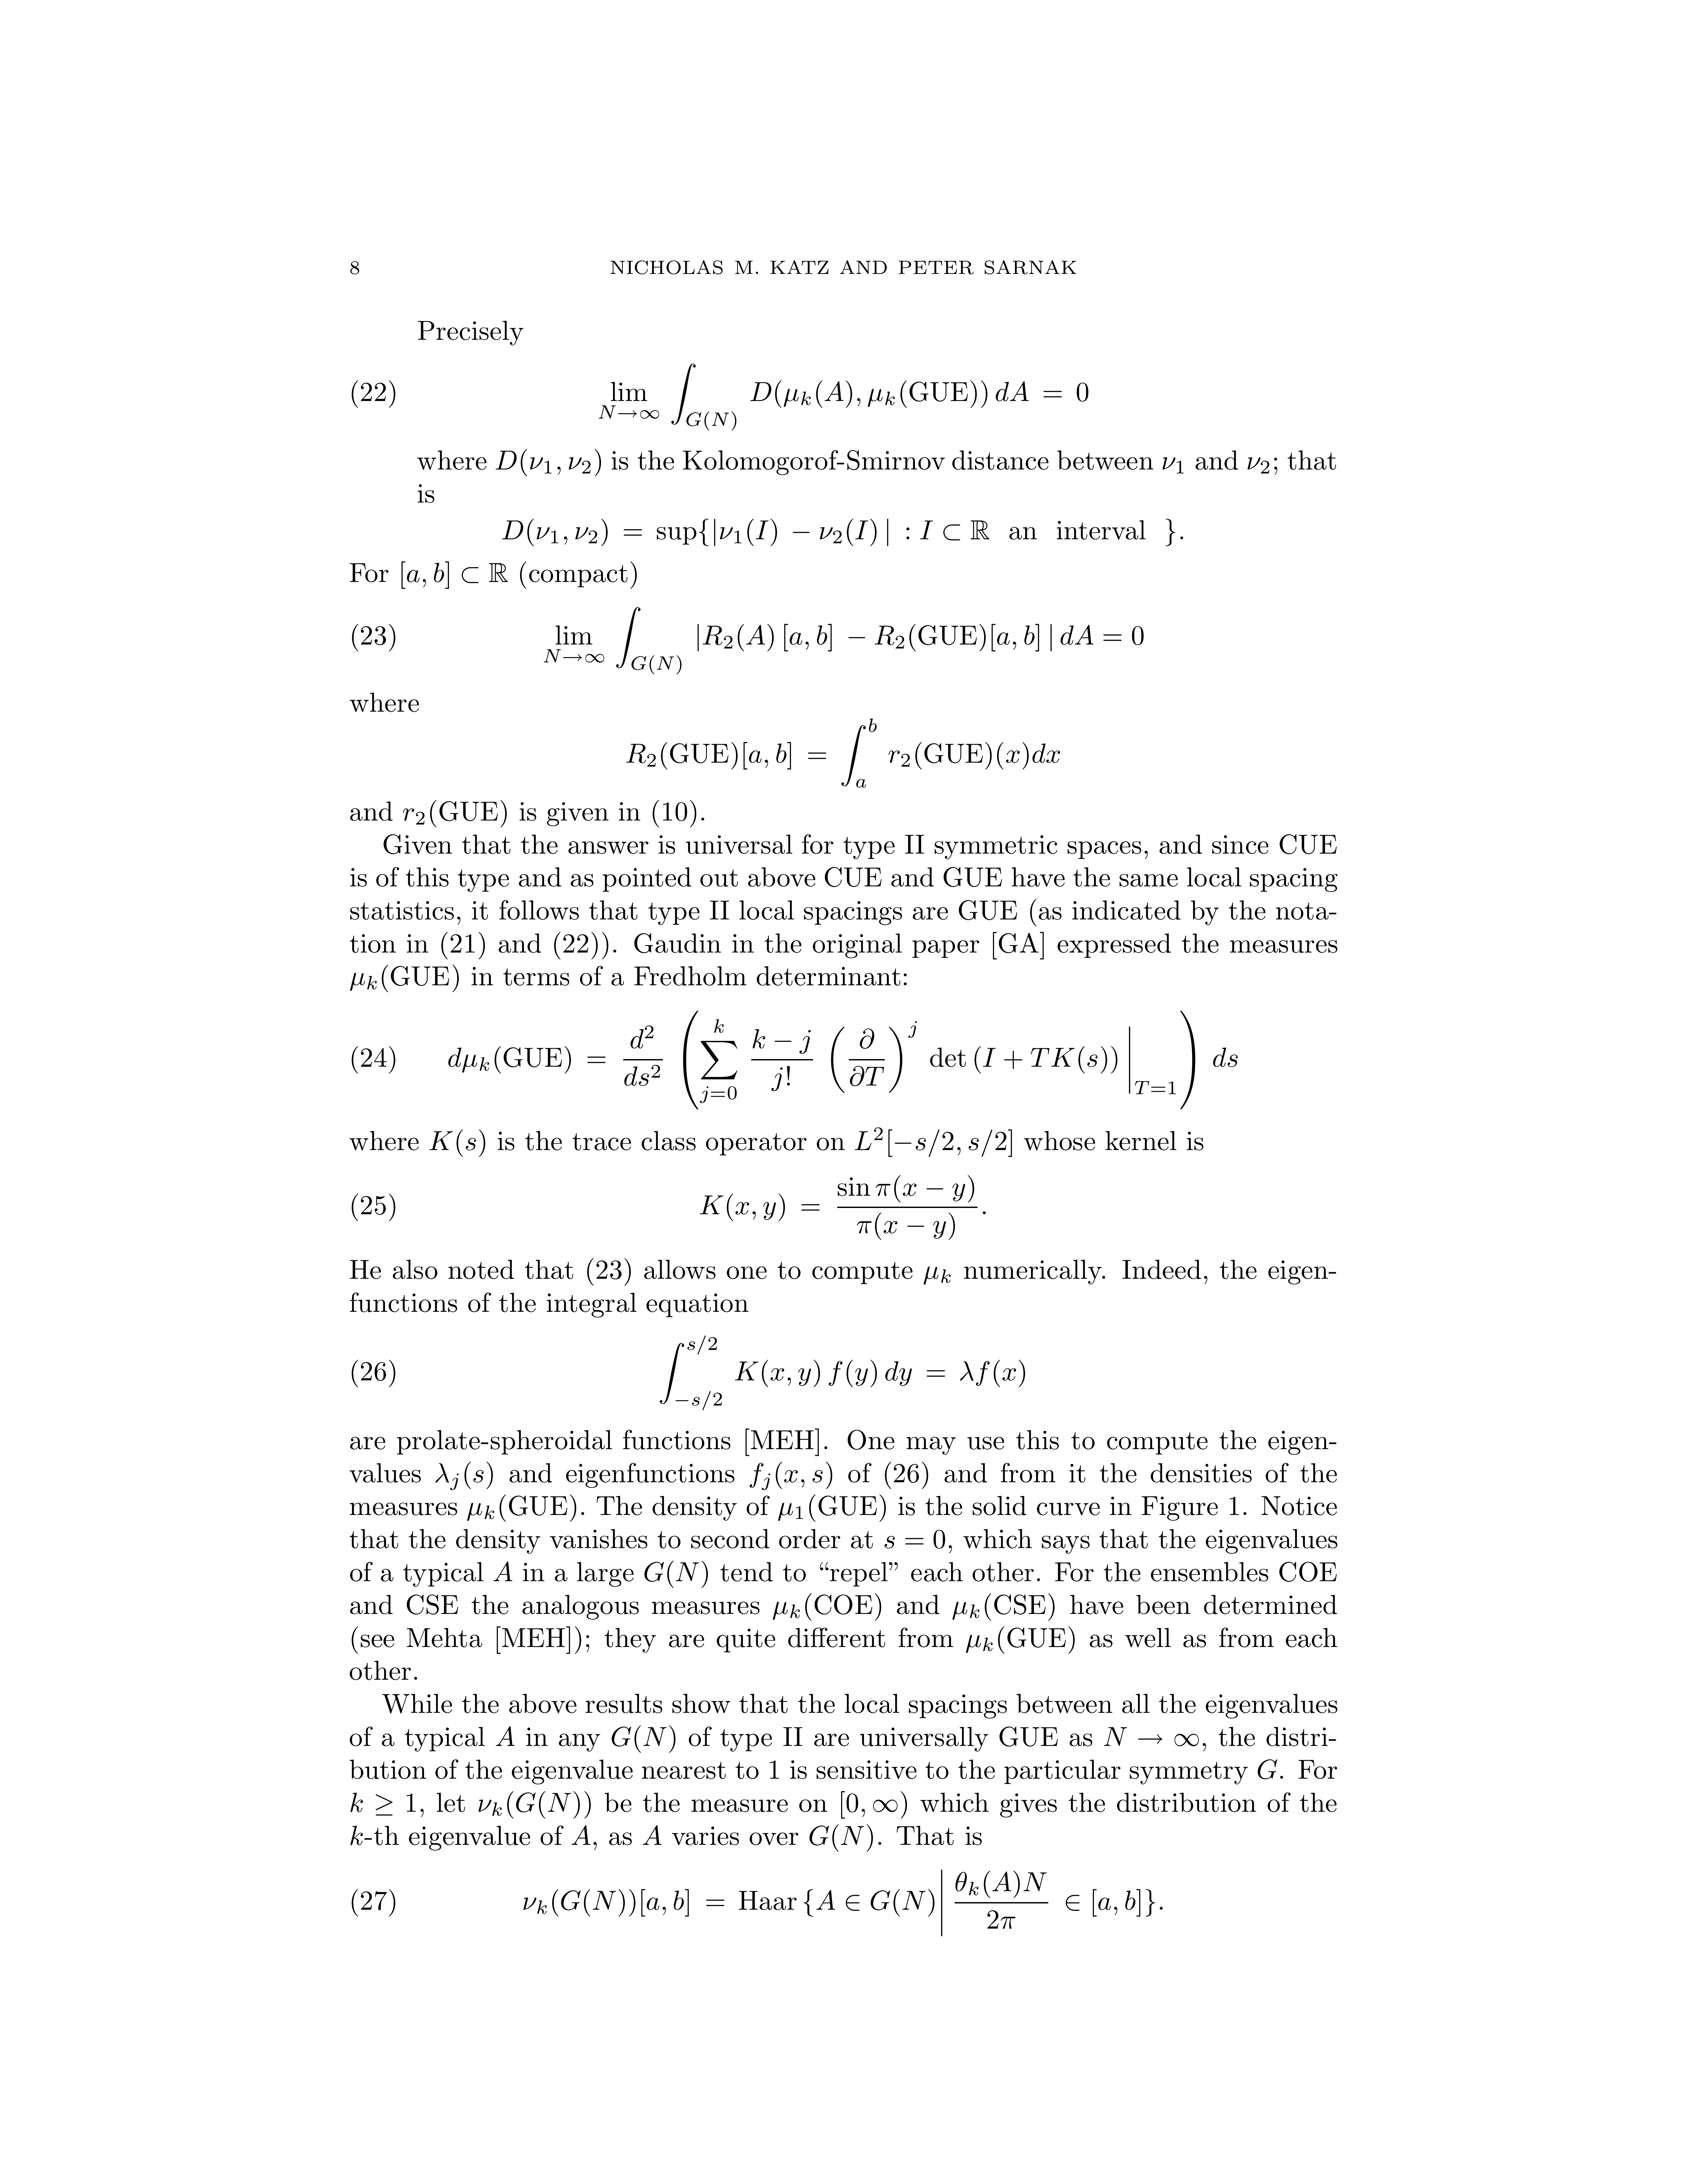maths: (448, 1010, 1237, 1110), (523, 1870, 1155, 1936), (544, 606, 1143, 674), (626, 718, 1060, 787), (659, 1335, 1024, 1409), (700, 1175, 976, 1239), (599, 363, 859, 431), (501, 519, 888, 546), (868, 381, 1088, 408), (854, 1127, 1012, 1156), (478, 1790, 590, 1819), (496, 448, 601, 477), (402, 562, 507, 589), (750, 1462, 831, 1489), (842, 1790, 907, 1819), (1104, 1727, 1198, 1746), (611, 1725, 675, 1753), (645, 1560, 707, 1588), (810, 1824, 872, 1851), (429, 1129, 486, 1156), (436, 1462, 493, 1489), (351, 1792, 415, 1815), (920, 521, 989, 541), (884, 1530, 945, 1548), (500, 799, 519, 828), (923, 1266, 950, 1285), (468, 1503, 494, 1521), (773, 1603, 799, 1620), (953, 1603, 980, 1620), (966, 1634, 992, 1652), (351, 973, 376, 991), (778, 1503, 803, 1521), (1258, 1759, 1278, 1780), (494, 1562, 512, 1581), (496, 1727, 514, 1746), (572, 1826, 590, 1845), (643, 1826, 661, 1845), (1162, 457, 1184, 473), (1248, 457, 1269, 473), (404, 808, 424, 824), (351, 1826, 363, 1845), (1166, 519, 1175, 546), (769, 1760, 778, 1778)
